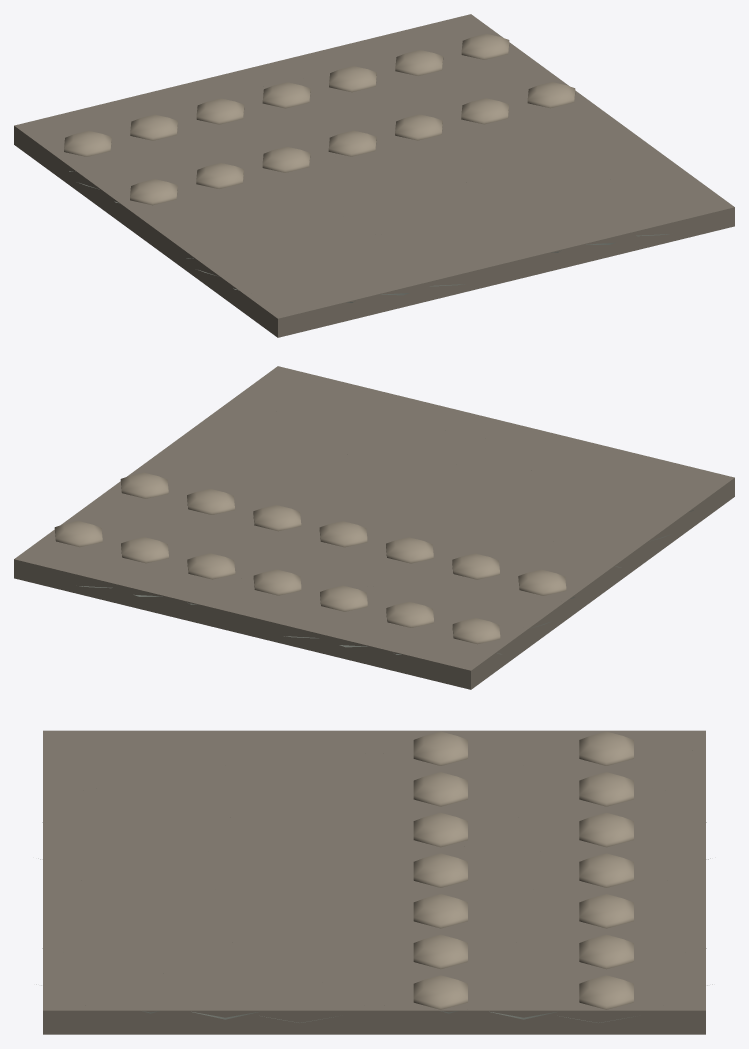
The model's file is trench-line-1917-mud-pool-tile-c4c88768__24090.glb.
3 views of the same model, one above another, from view 1: azimuth 30°, elevation 25°; view 2: azimuth 150°, elevation 25°; view 3: azimuth 270°, elevation 25° (orthographic). The views are drawn at different scales.
Parts seen in each view (by area): view 1: mud-pool-tile; view 2: mud-pool-tile; view 3: mud-pool-tile.
Boxes of the visible parts, x1,y1,x2,y2 form: mud-pool-tile: (14,14,734,337); mud-pool-tile: (14,366,734,689); mud-pool-tile: (36,730,712,1034).
Bounding box in the file's own units: 4.35 × 0.25 × 4.35.
